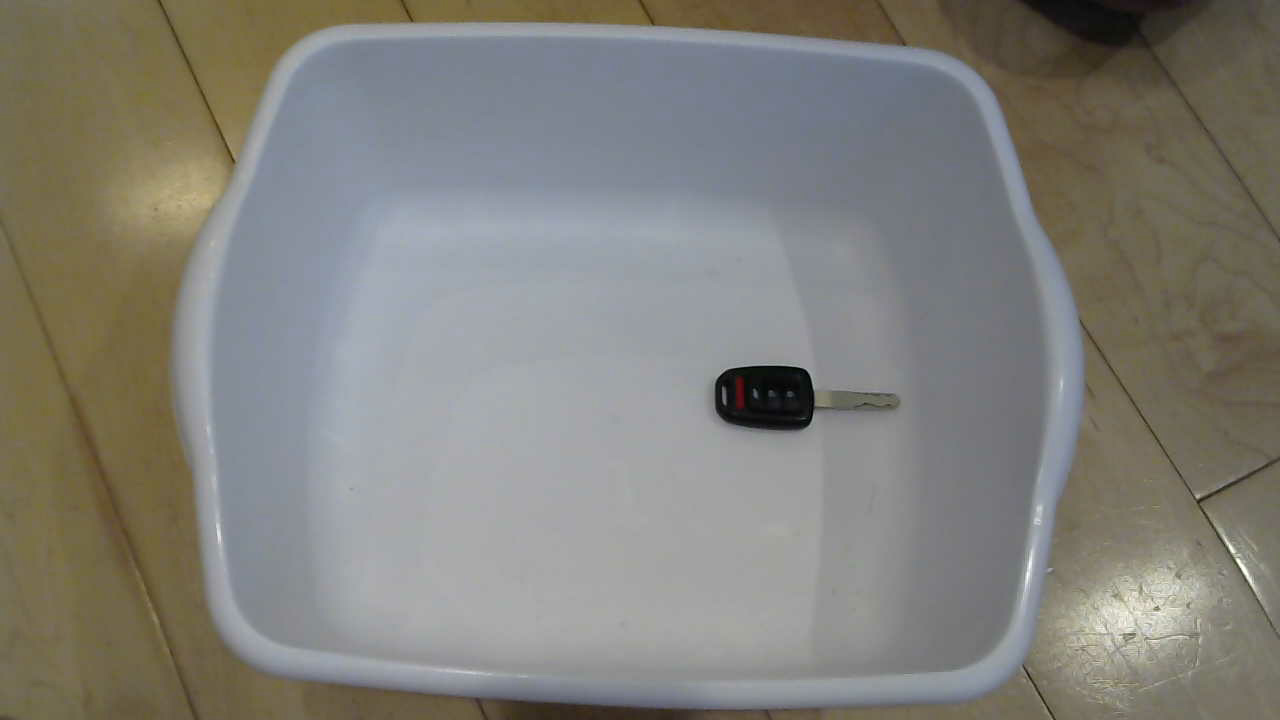key: (691, 357, 917, 453)
